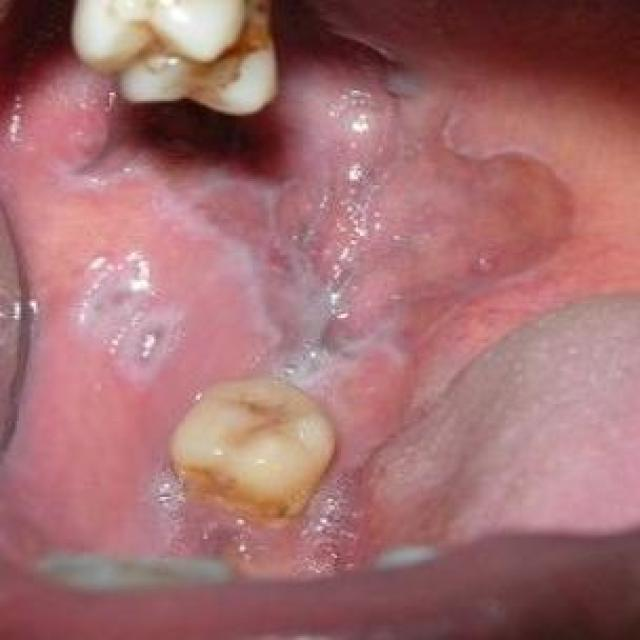leukoplakia-like-detection: (14, 96, 517, 395)
processing_area: (3, 2, 638, 574)
